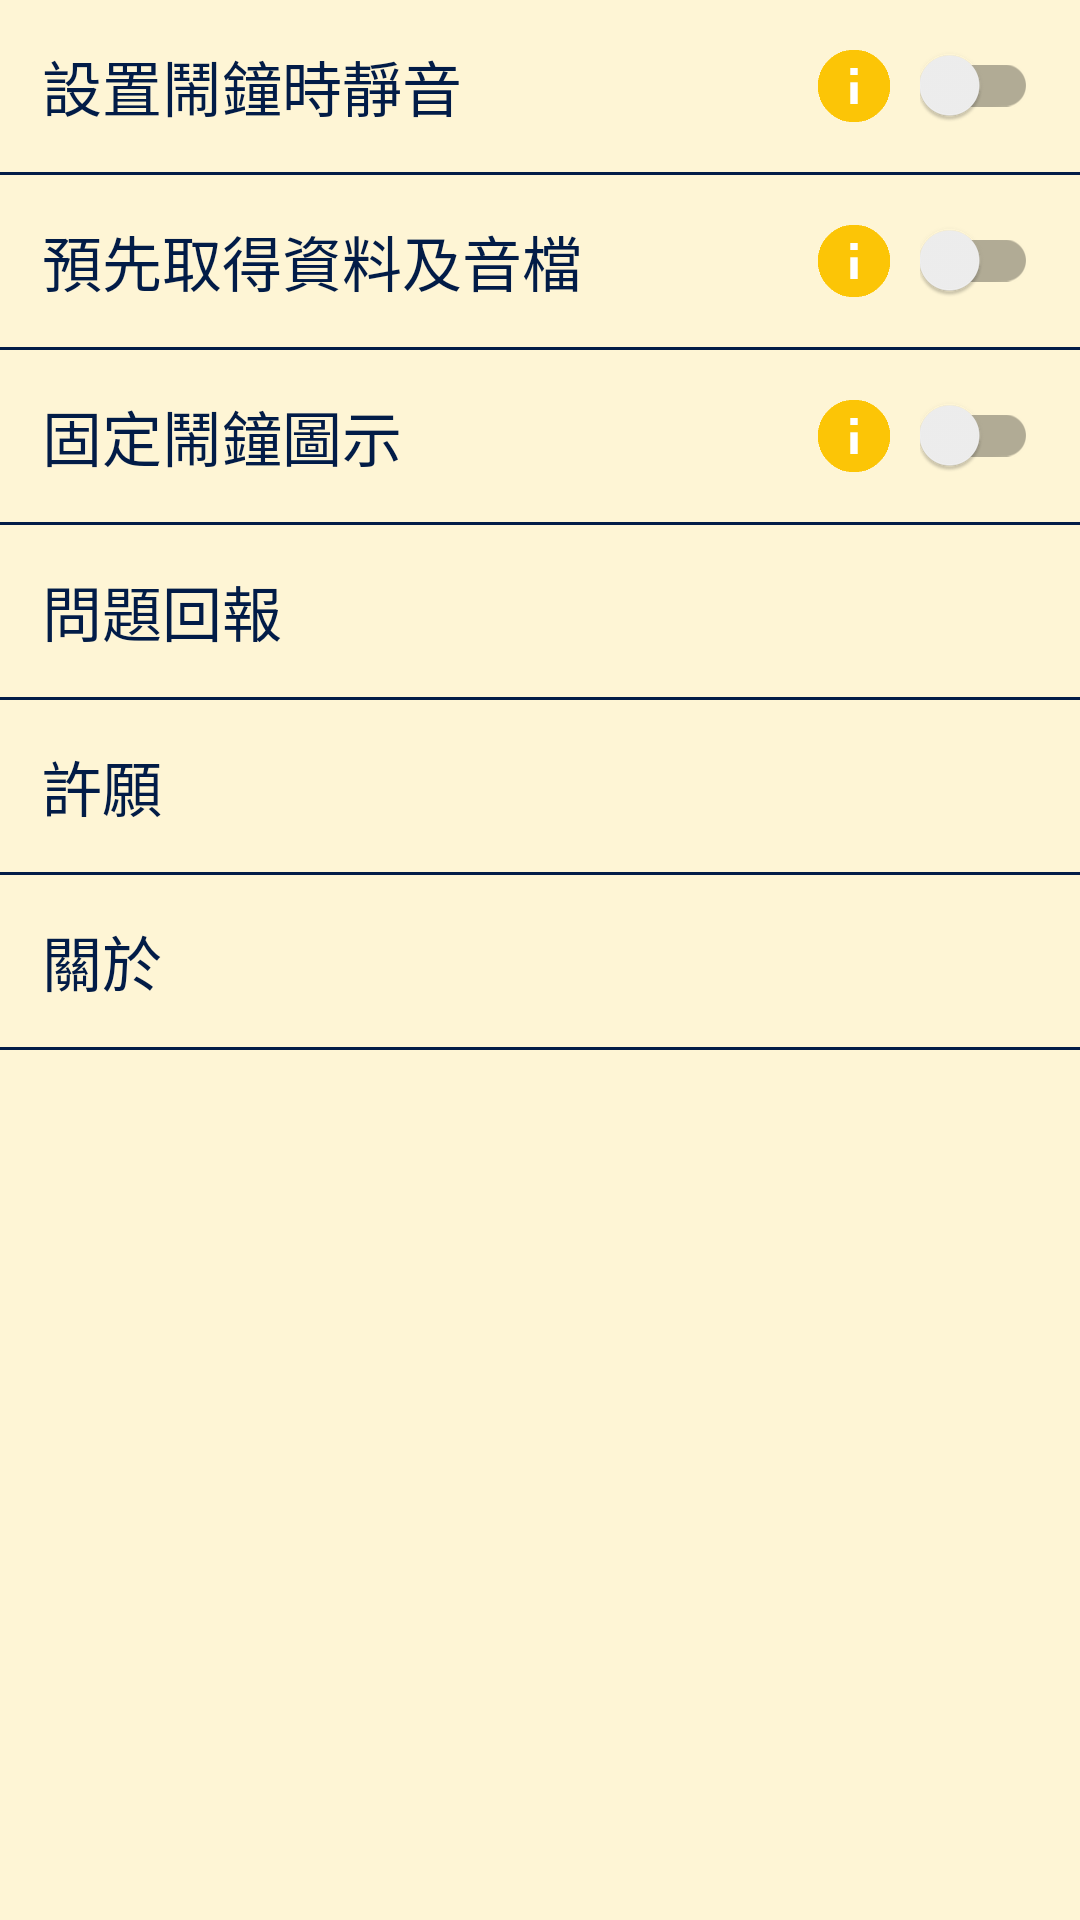

Named icons in this screenshot (1080x1920) and their bounding boxes, BBox(x1, y1, x2, y2):
info: BBox(818, 50, 890, 122), BBox(818, 225, 890, 297), BBox(818, 400, 890, 472)
